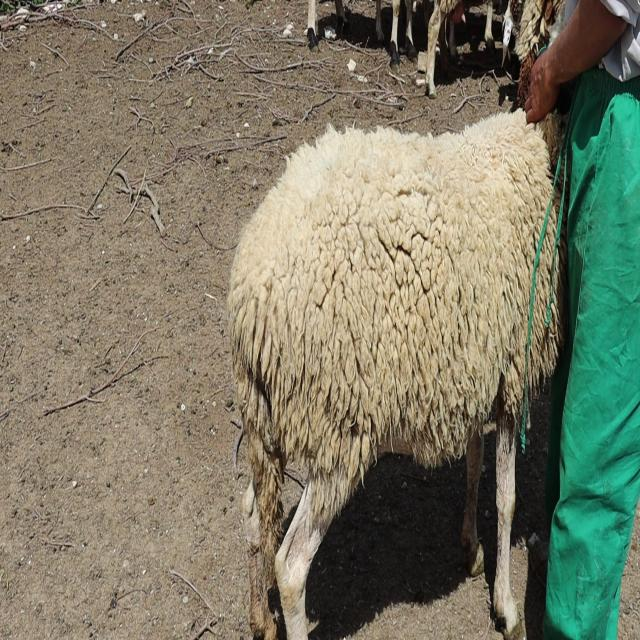Score_5: (227, 109, 568, 639)
